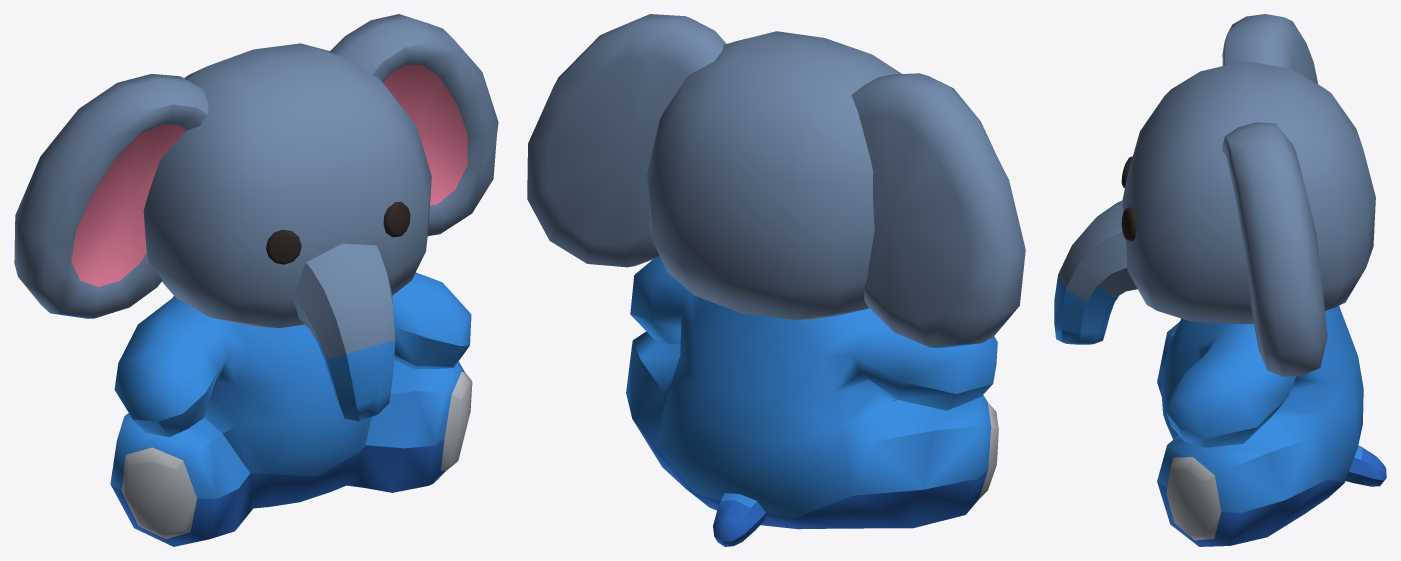
Rendered from pelucia_elefante_pacote.glb.
3 views of the same model, side by side, from view 1: azimuth 30°, elevation 25°; view 2: azimuth 150°, elevation 25°; view 3: azimuth 270°, elevation 25° (orthographic). The views are drawn at different scales.
Visible parts, largest first — view 1: pelucia_elefante_pacote; view 2: pelucia_elefante_pacote; view 3: pelucia_elefante_pacote.
Boxes of the visible parts, x1,y1,x2,y2 form: pelucia_elefante_pacote: [14, 14, 498, 546]; pelucia_elefante_pacote: [527, 14, 1025, 546]; pelucia_elefante_pacote: [1054, 14, 1386, 546].
Bounding box in the file's own units: 0.4479 × 0.4082 × 0.2933.
1 material, 1 textured.
